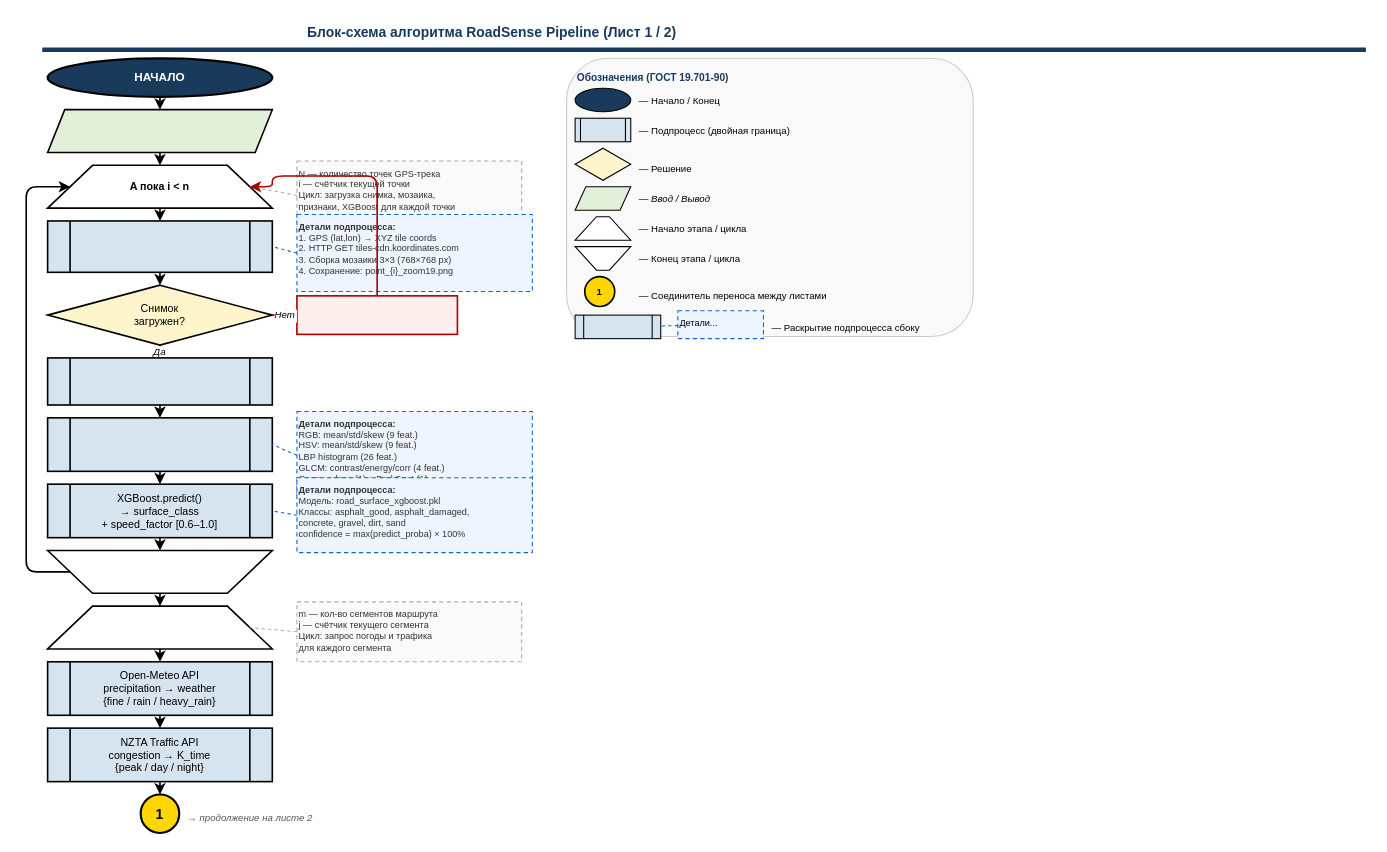
The diagram is 1387 pixels wide and 852 high, and some of its shapes have lost their labels. Here are the shapes that lost their labels. From the top down, the box of each, then its label:
(46, 108, 273, 153): Ввод: GPS-трек (.gpx) lat, lon, n точек
(46, 220, 273, 273): Загрузка спутн. снимков LINZ API, zoom 18–19 deg_to_tile → XYZ tiles
(296, 295, 458, 335): Пропуск точки → следующая
(46, 357, 273, 405): Мозаика 3×3 (768×768 px) surface_cache[key]
(46, 417, 273, 472): Извлечение признаков RGB · HSV · LBP · GLCM Canny · DarkSpot (50 feat.)
(46, 549, 273, 594): A i = i + 1
(46, 605, 273, 649): B пока j < m
